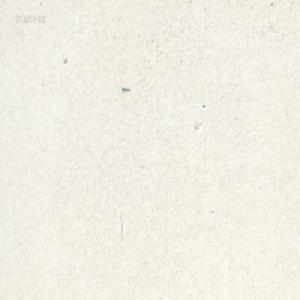Nail: (120, 84, 130, 90)
